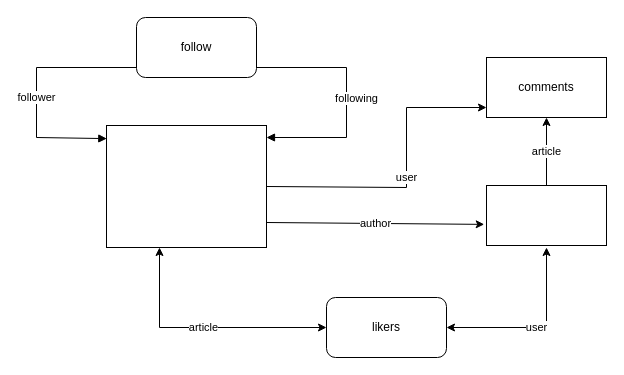
Some shapes in this 624 by 375 pixel diagram are drawn without their labels. Here are the shapes that lost their labels. From the top down, the centre of each, then its label:
At pixel 186 186: "Users".
At pixel 546 215: "Articles".
